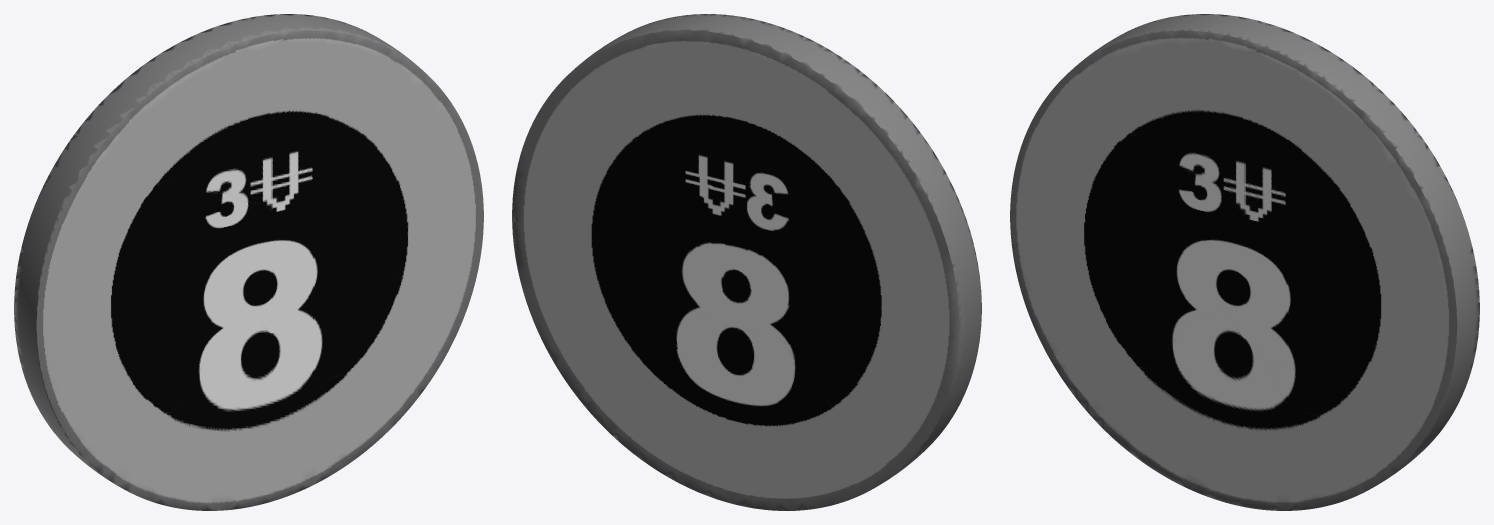
3 renders of one model, left to right at view 1: azimuth 30°, elevation 25°; view 2: azimuth 150°, elevation 25°; view 3: azimuth 330°, elevation 25°, orthographic.
Parts seen in each view (by area): view 1: node_id27; view 2: node_id27; view 3: node_id27.
Part boxes in pixels (box(x1,y1,x2,y2)): node_id27: box(14, 14, 483, 510); node_id27: box(512, 14, 981, 510); node_id27: box(1010, 14, 1479, 510).
Bounding box in the file's own units: 0.512 × 0.512 × 0.0447.
Materials: 1 (1 with a texture image).
